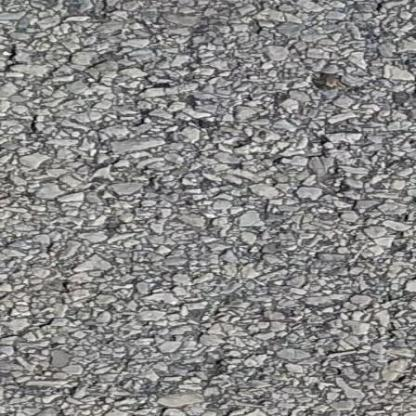Cracks: (255, 104, 373, 232)
